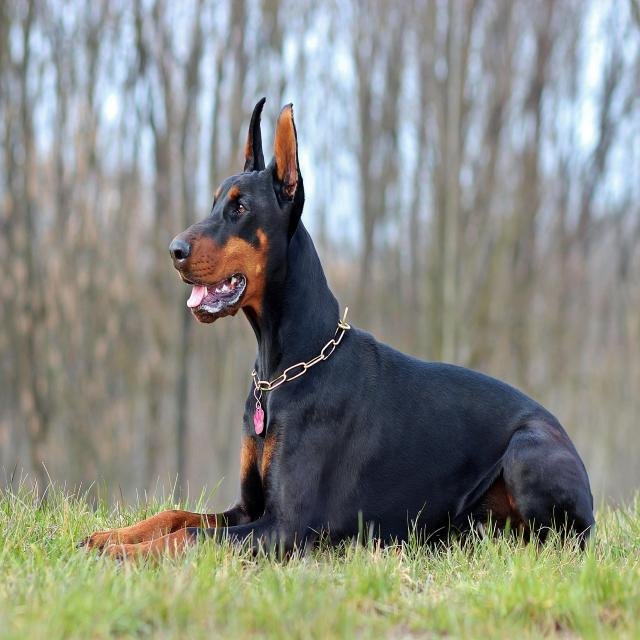laying down: (74, 94, 600, 565)
